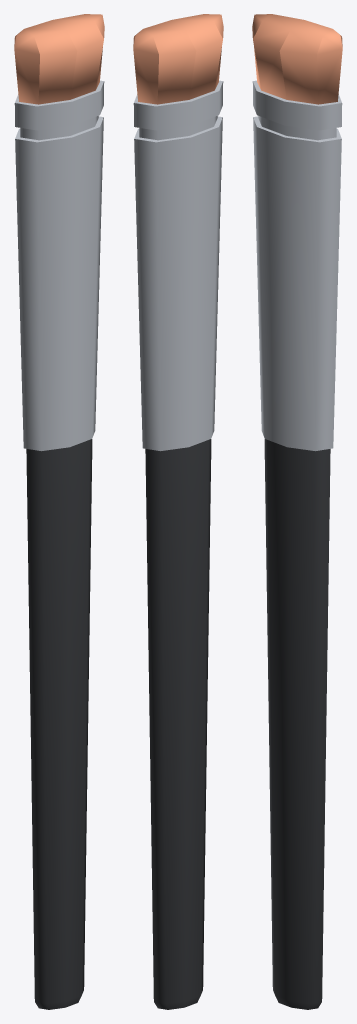
File: Brush Concealer.glb
The picture shows the model from 3 angles, left to right: view 1: azimuth 30°, elevation 25°; view 2: azimuth 210°, elevation 25°; view 3: azimuth 330°, elevation 25°; orthographic projection.
Visible parts, largest first — view 1: brush_concealer.001; view 2: brush_concealer.001; view 3: brush_concealer.001.
Part boxes in pixels (x1,y1,x2,y2): brush_concealer.001: [14, 14, 104, 1009]; brush_concealer.001: [133, 14, 223, 1009]; brush_concealer.001: [252, 14, 342, 1009].
Bounding box in the file's own units: 2.52 × 26.03 × 1.72.
1 material, 1 textured.
